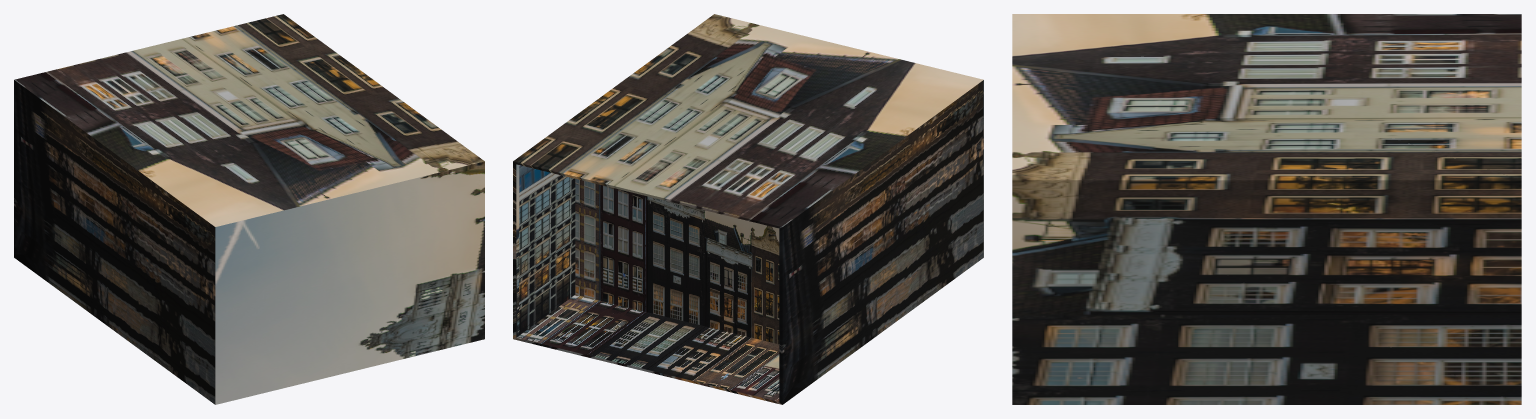
File: Windowrectanglepic1.fbx
3 renders of one model, left to right at view 1: azimuth 30°, elevation 25°; view 2: azimuth 150°, elevation 25°; view 3: azimuth 270°, elevation 25°, orthographic. The views are drawn at different scales.
Parts seen in each view (by area): view 1: Cube.002; view 2: Cube.002; view 3: Cube.002.
Part boxes in pixels (x1=…): Cube.002: x1=14, y1=14, x2=484, y2=404; Cube.002: x1=513, y1=14, x2=983, y2=404; Cube.002: x1=1012, y1=14, x2=1521, y2=404.
Bounding box in the file's own units: 200 × 126 × 259.
1 material, 1 textured.
